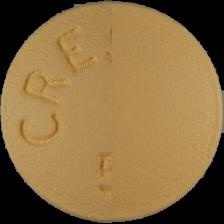63629-4311: (0, 0, 224, 224)
